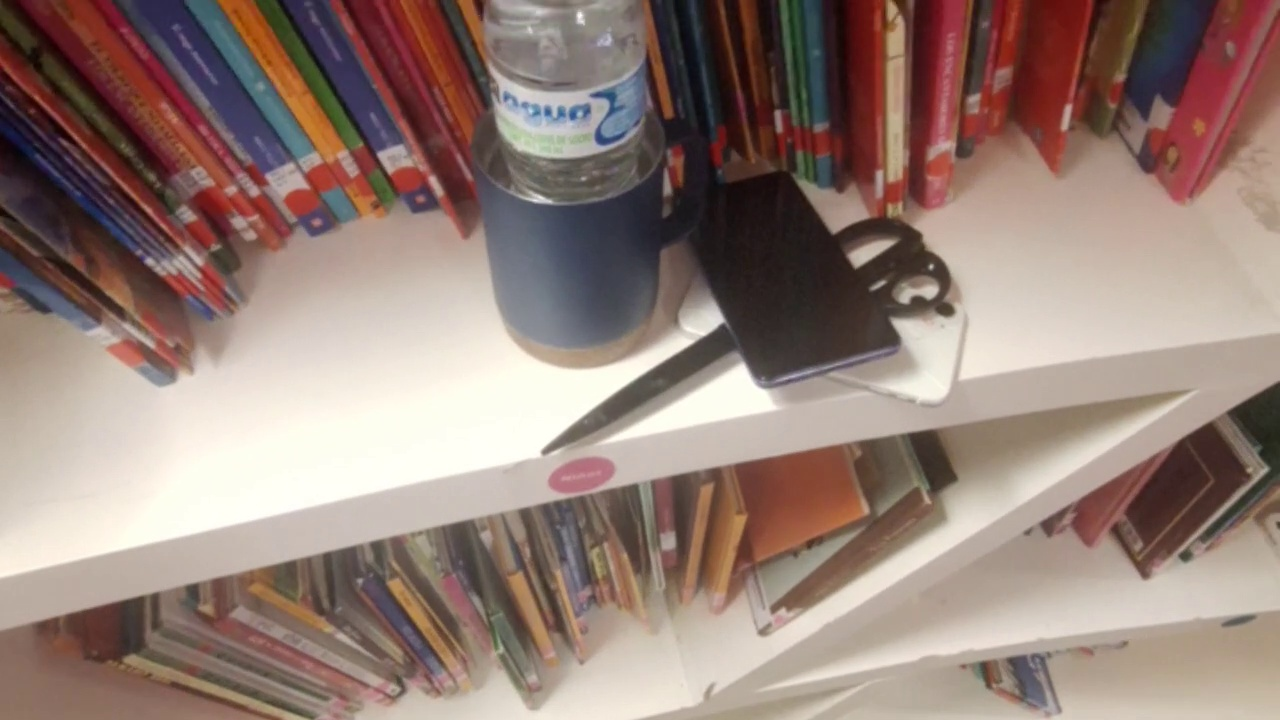botella: (465, 2, 703, 370)
